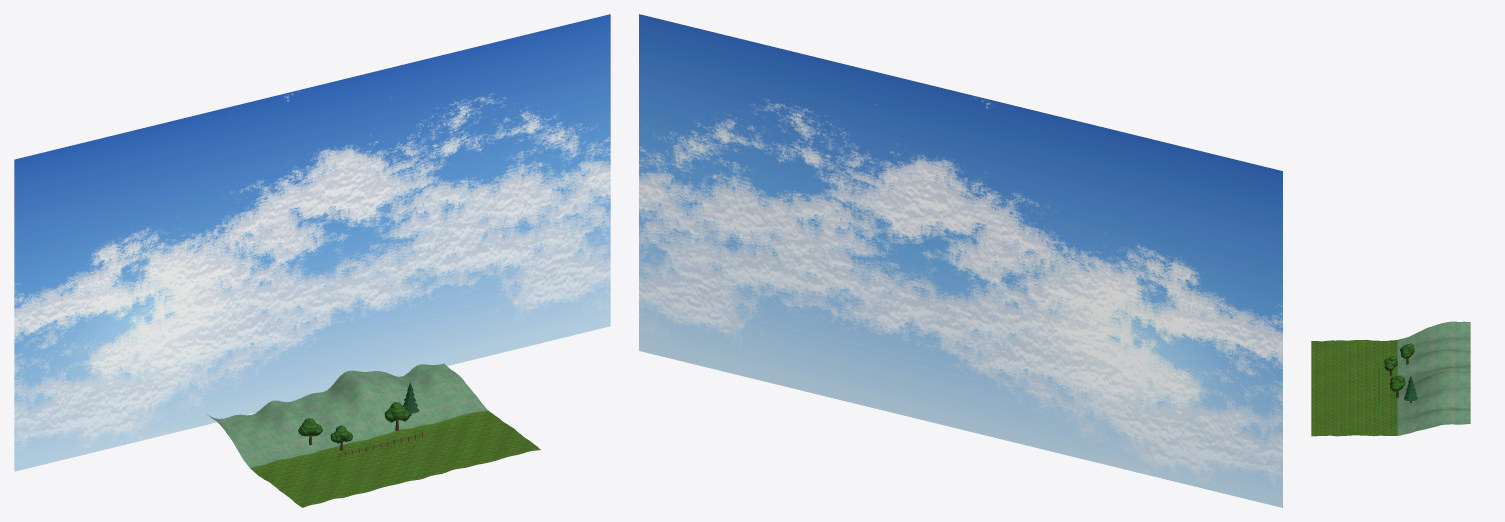
The model's file is PROP_BG_GRASS.glb.
3 views of the same model, side by side, from view 1: azimuth 30°, elevation 25°; view 2: azimuth 150°, elevation 25°; view 3: azimuth 270°, elevation 25° (orthographic). The views are drawn at different scales.
Parts seen in each view (by area): view 1: PROP_BG_GRASS_2, PROP_BG_GRASS_1, PROP_BG_GRASS_0; view 2: PROP_BG_GRASS_2; view 3: PROP_BG_GRASS_0, PROP_BG_GRASS_1.
Boxes of the visible parts, x1=… form: PROP_BG_GRASS_2: x1=14, y1=14, x2=610, y2=471; PROP_BG_GRASS_1: x1=206, y1=363, x2=487, y2=467; PROP_BG_GRASS_0: x1=250, y1=410, x2=540, y2=507; PROP_BG_GRASS_2: x1=639, y1=14, x2=1282, y2=507; PROP_BG_GRASS_0: x1=1311, y1=339, x2=1397, y2=436; PROP_BG_GRASS_1: x1=1397, y1=321, x2=1470, y2=435.
Size of the model in its own units: 170 by 85.06 by 54.
Materials: 14 (8 with a texture image).
